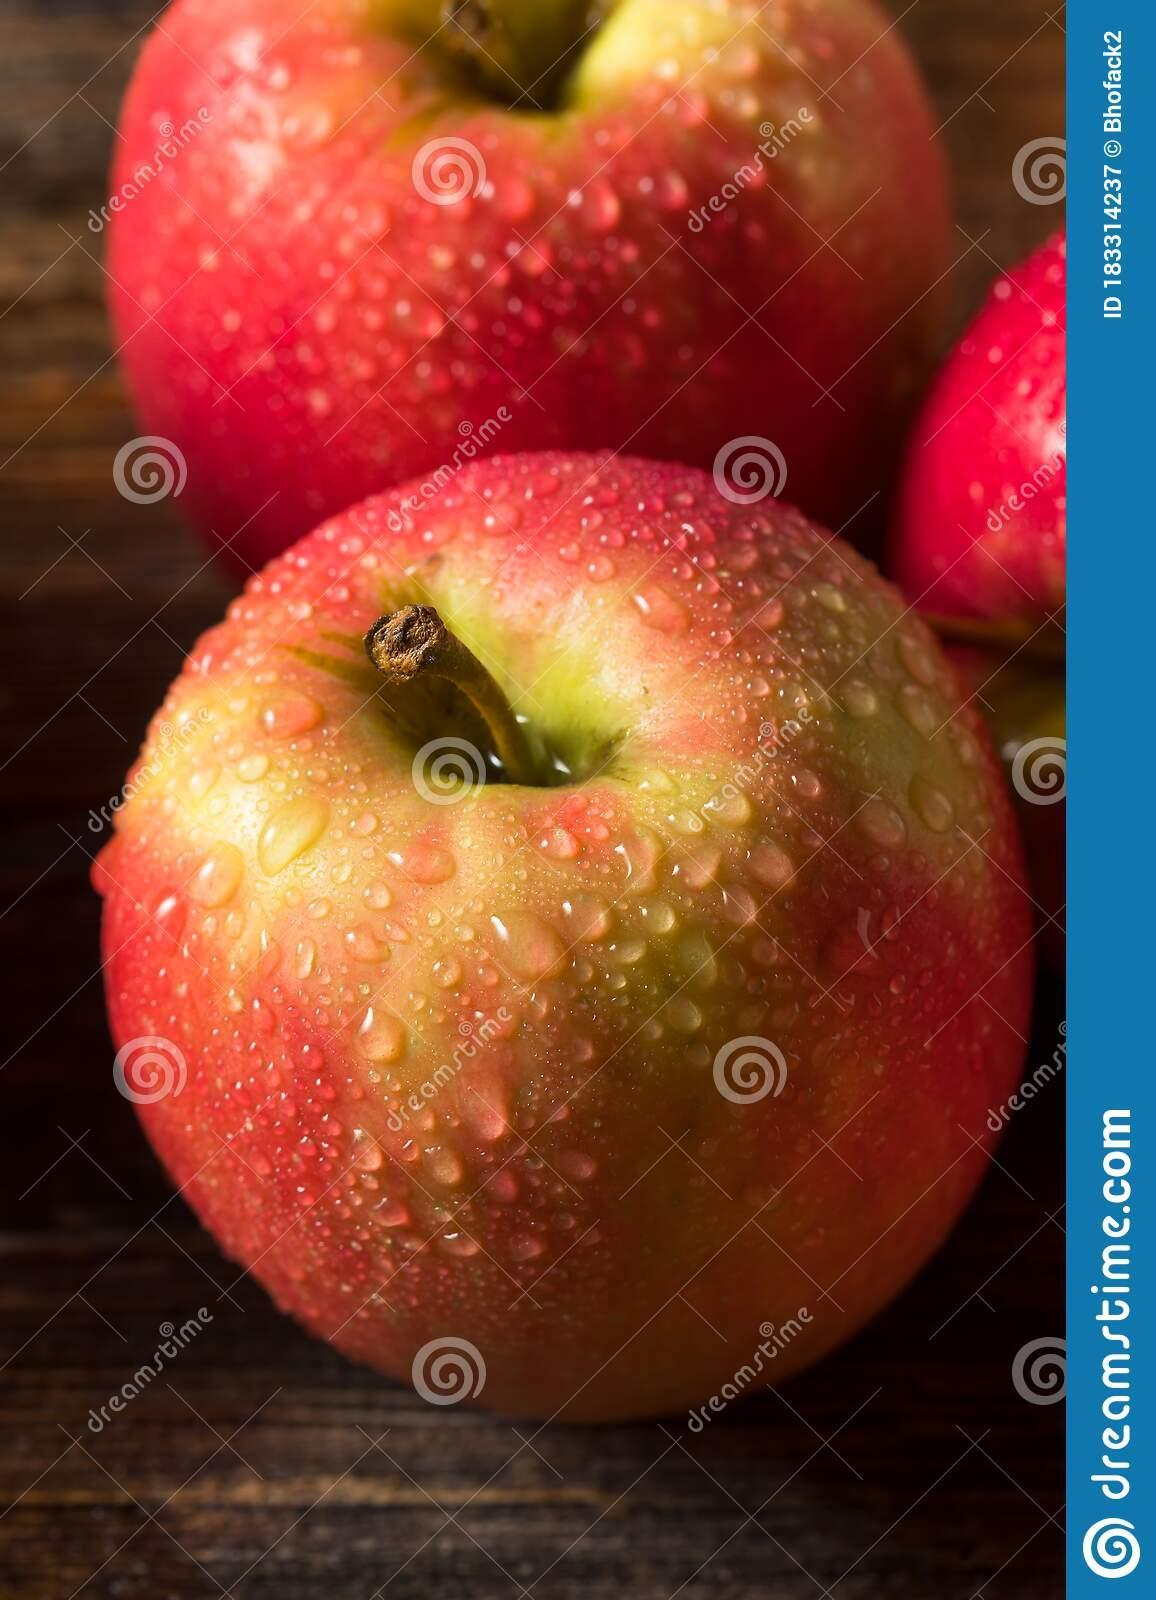apple: (96, 448, 1032, 1421), (104, 5, 961, 607), (889, 215, 1067, 660)
